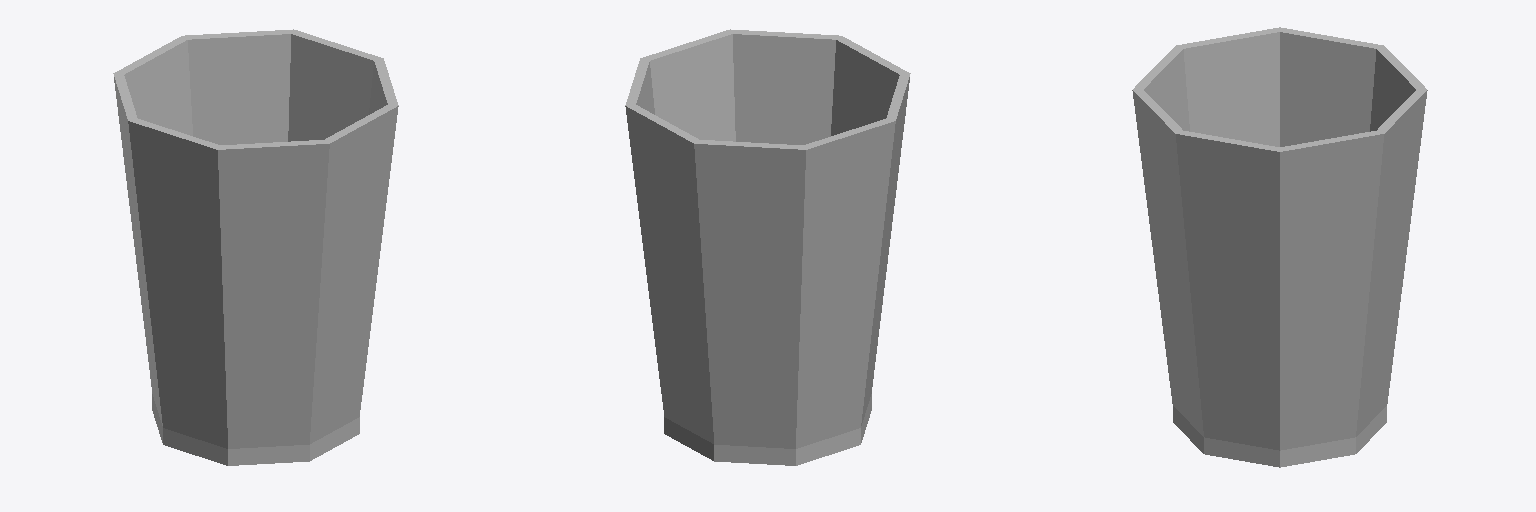
File: Glass.obj
3 renders of one model, left to right at view 1: azimuth 30°, elevation 25°; view 2: azimuth 150°, elevation 25°; view 3: azimuth 270°, elevation 25°, orthographic.
Visible parts, largest first — view 1: pCylinder1; view 2: pCylinder1; view 3: pCylinder1.
Part boxes in pixels (left/top/right/bottom): pCylinder1: left=113, top=29, right=398, bottom=465; pCylinder1: left=625, top=29, right=910, bottom=465; pCylinder1: left=1132, top=27, right=1427, bottom=467.
Size of the model in its own units: 4.13 by 5.13 by 4.13.